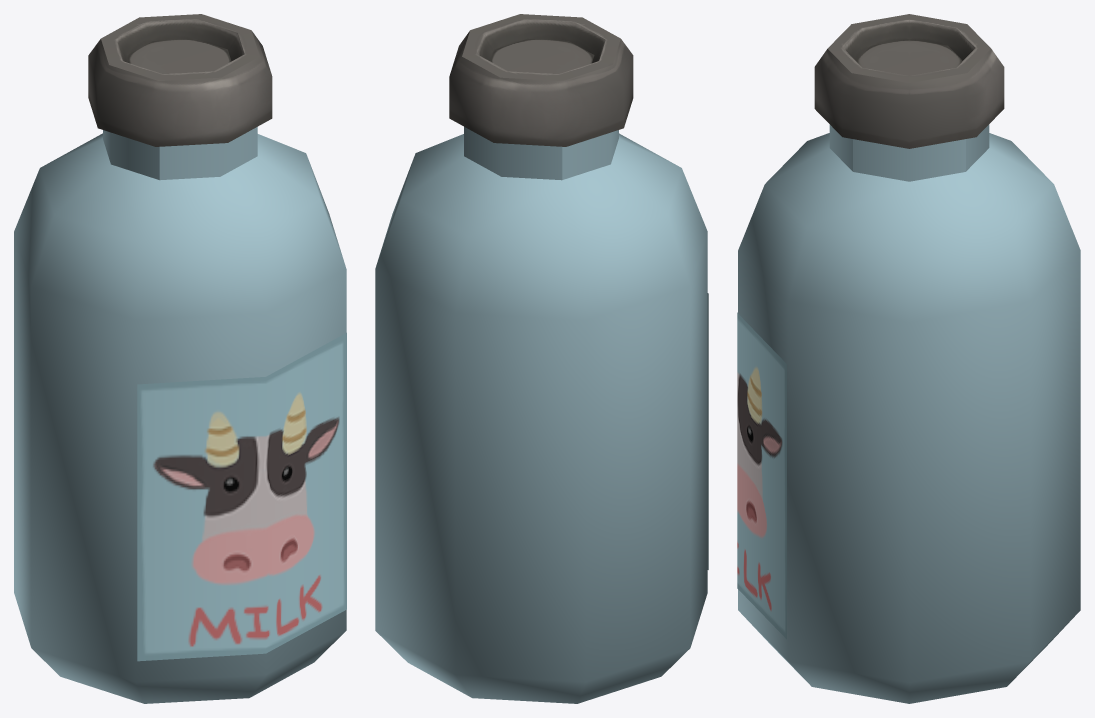
Rendered from milk.FBX.
3 renders of one model, left to right at view 1: azimuth 30°, elevation 25°; view 2: azimuth 150°, elevation 25°; view 3: azimuth 270°, elevation 25°, orthographic.
Parts seen in each view (by area): view 1: milk (×2); view 2: milk (×2); view 3: milk (×2).
Boxes of the visible parts, x1,y1,x2,y2 form: milk (×2): (14,14,346,703); milk (×2): (375,14,708,703); milk (×2): (737,14,1080,703).
Bounding box in the file's own units: 4.06 × 7.82 × 4.07.
